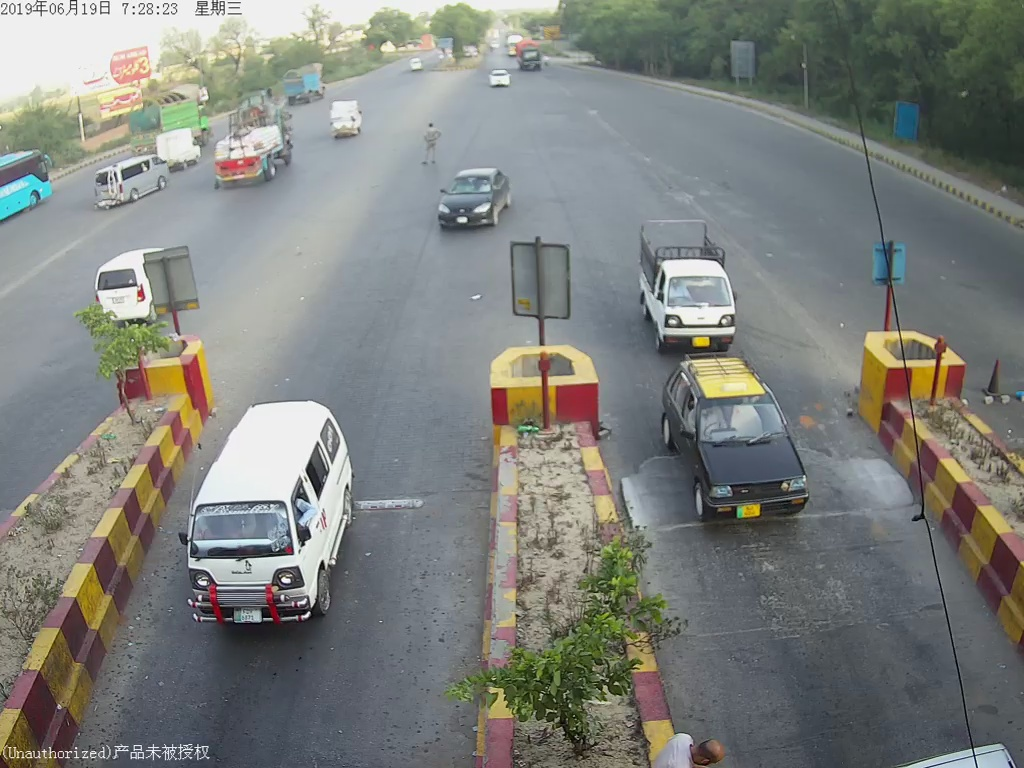Cat-1: (184, 395, 383, 647), (650, 355, 821, 522), (631, 217, 752, 353), (427, 166, 509, 231)
